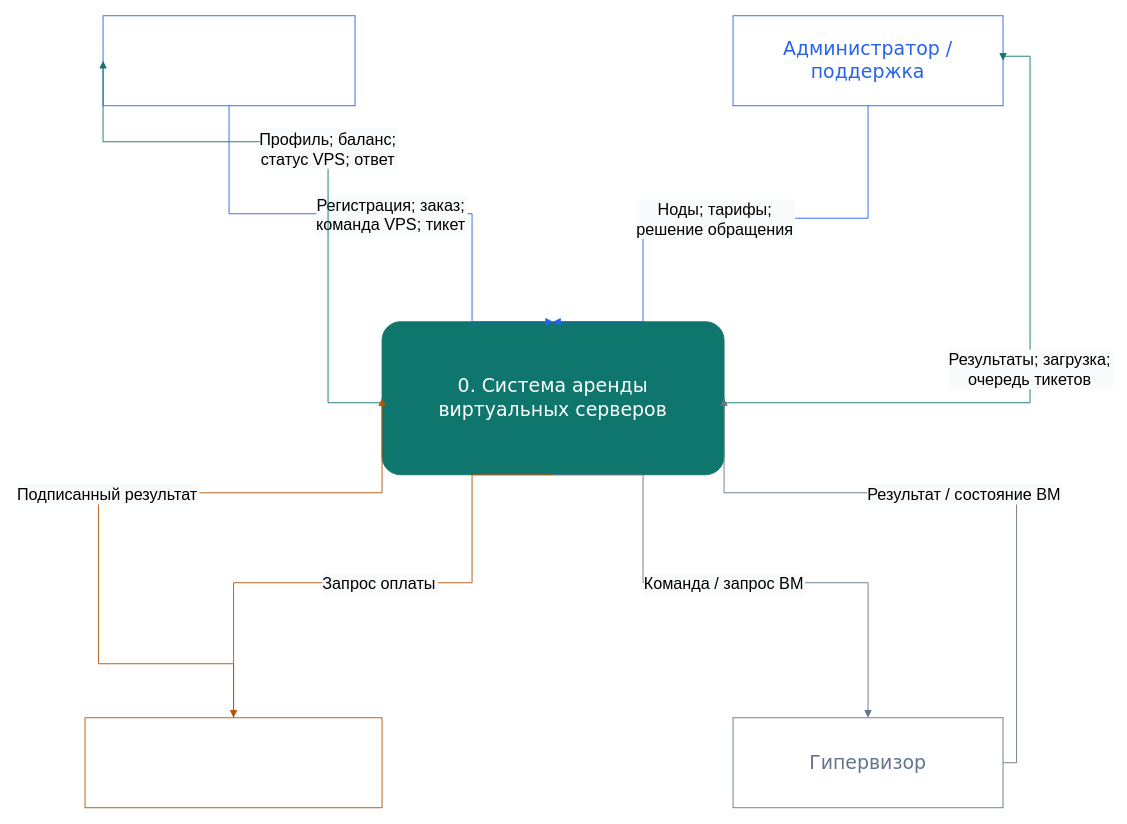
The diagram is 1127 pixels wide and 824 high, and some of its shapes have lost their labels. The centre of each missing label's shape, as x and y in pixels:
Клиент: point 228,60
Платёжный провайдер: point 233,762
